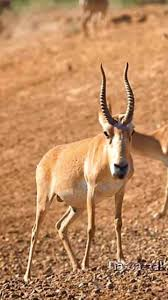saiga: (24, 60, 136, 280)
